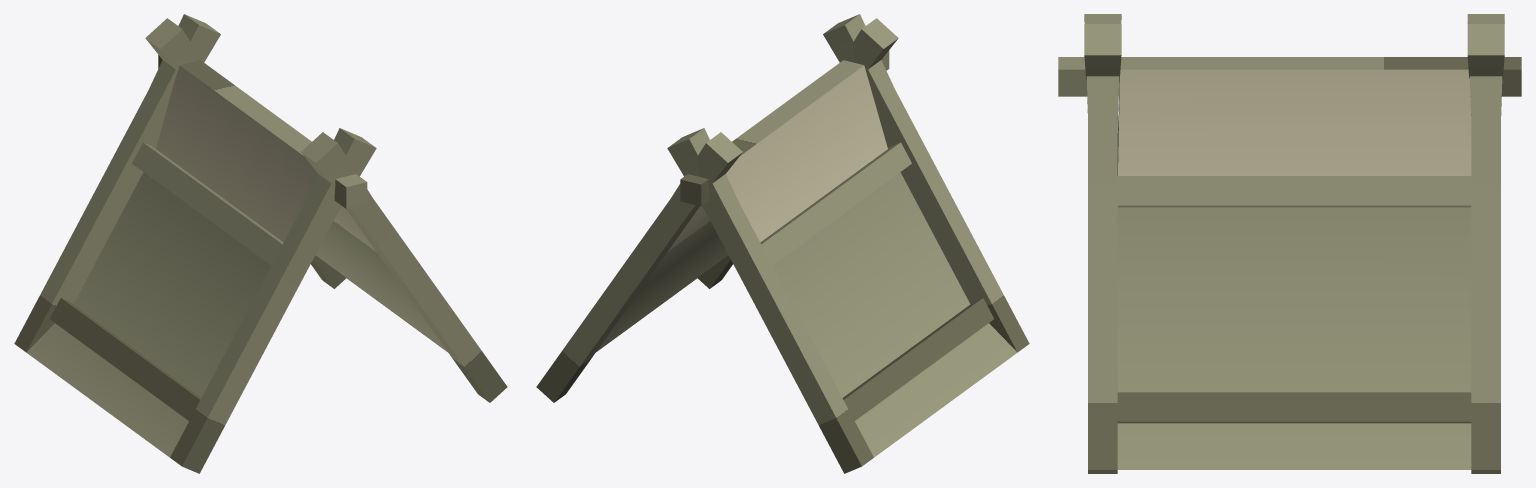
Rendered from shelter-canvas-tent.glb.
The picture shows the model from 3 angles, left to right: view 1: azimuth 30°, elevation 25°; view 2: azimuth 150°, elevation 25°; view 3: azimuth 270°, elevation 25°; orthographic projection. The views are drawn at different scales.
Visible parts, largest first — view 1: shelter-canvas-tent runtime mesh; view 2: shelter-canvas-tent runtime mesh; view 3: shelter-canvas-tent runtime mesh.
Part boxes in pixels (x1,y1,x2,y2): shelter-canvas-tent runtime mesh: (14, 14, 507, 473); shelter-canvas-tent runtime mesh: (536, 14, 1029, 473); shelter-canvas-tent runtime mesh: (1058, 14, 1521, 473).
Bounding box in the file's own units: 2.17 × 1.9 × 2.17.
Materials: 1 (1 with a texture image).
